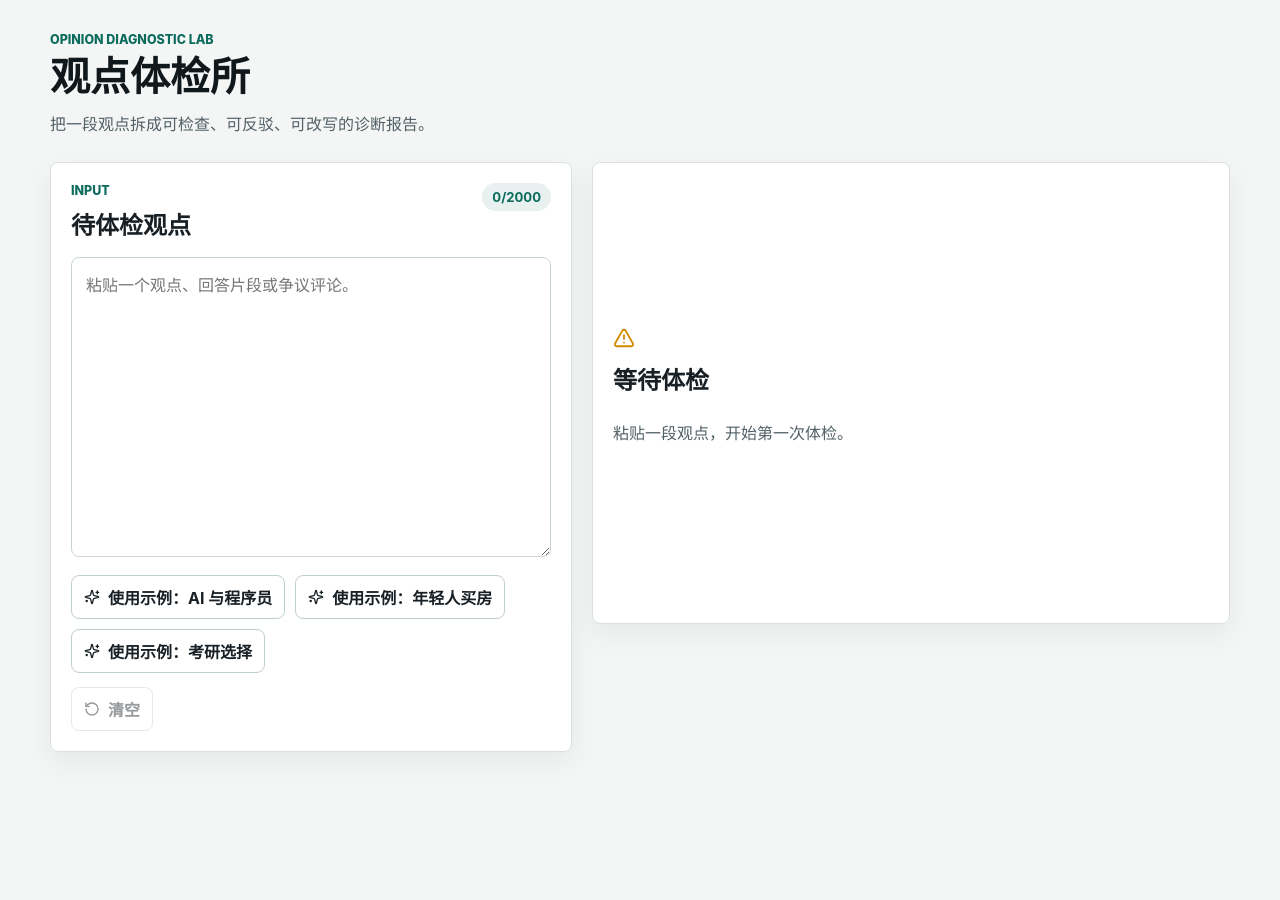
Test case: App › shows a short-input state without inventing a report
Type "会涨" into the text box named "输入观点" at (311,407), box 71,257 -> 551,557
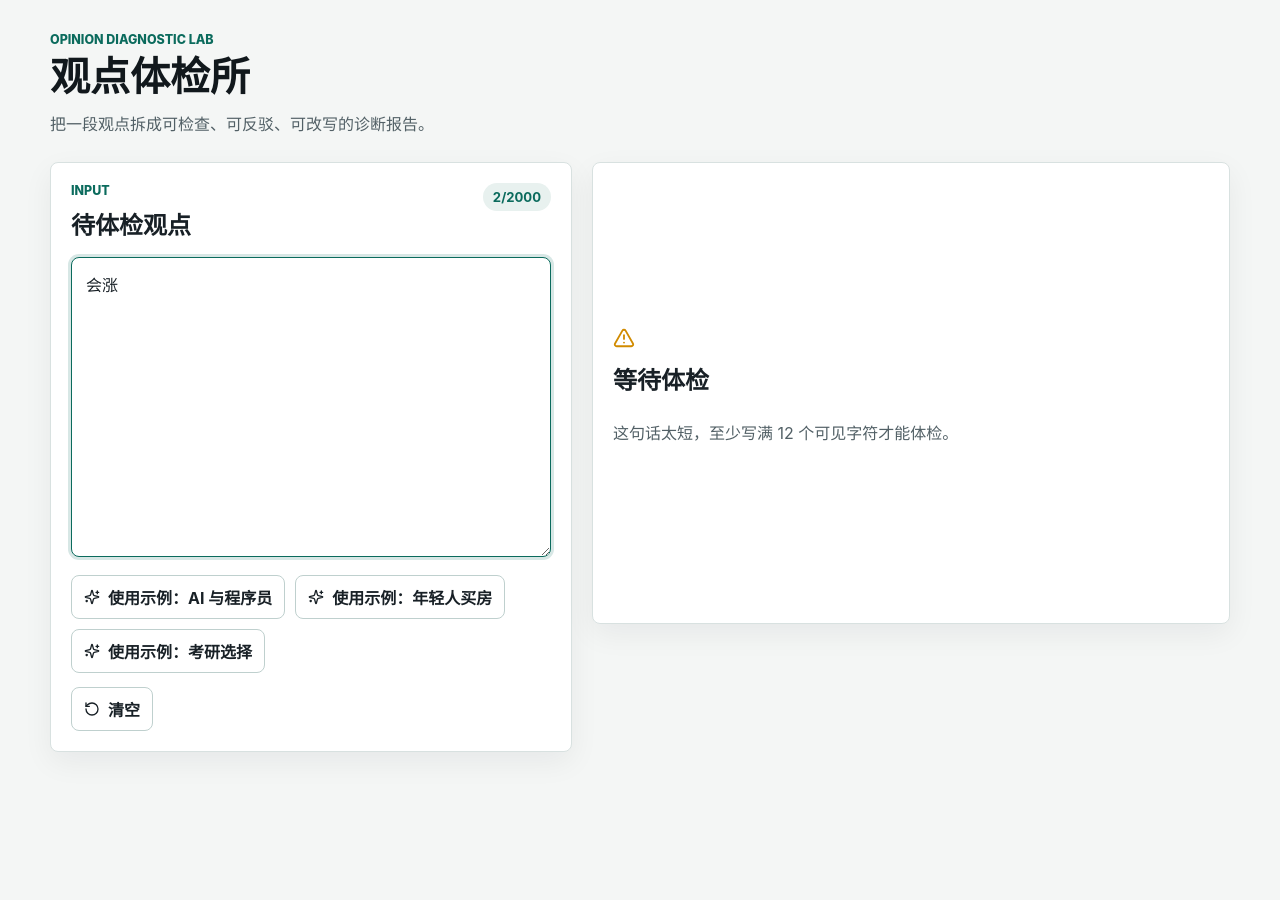
Check: the text "这句话太短，至少写满 12 个可见字符才能体检。" is shown, box 613,423 -> 958,443
